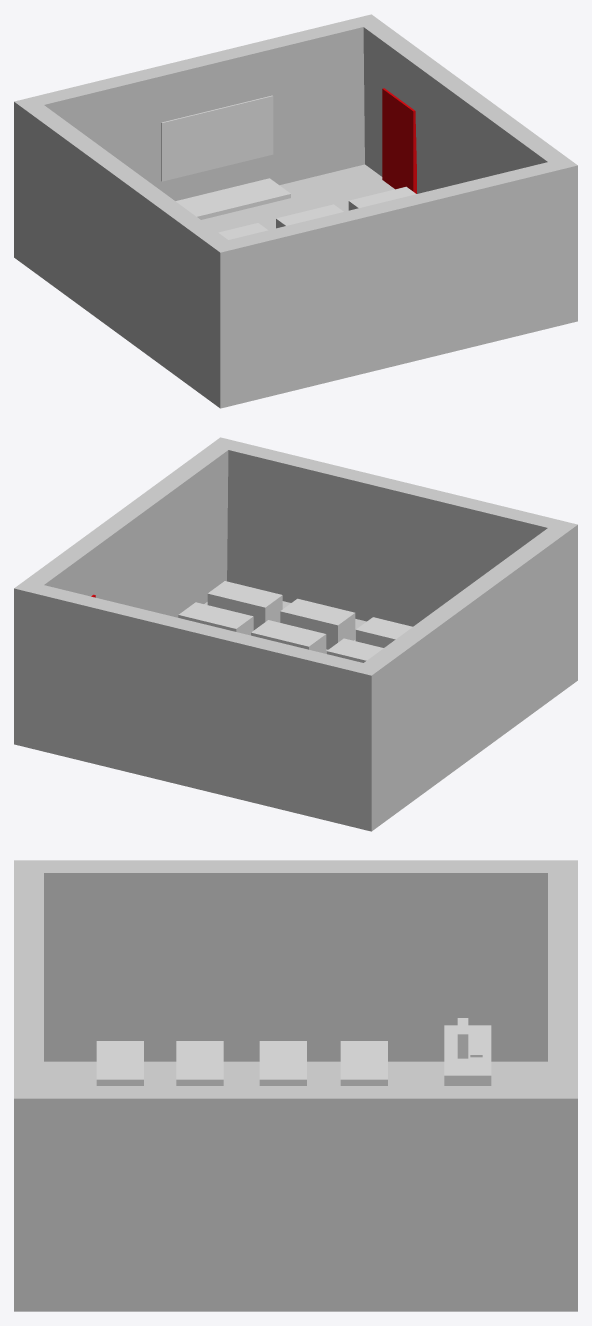
Rendered from SalaAula.fbx.
3 views of the same model, one above another, from view 1: azimuth 30°, elevation 25°; view 2: azimuth 150°, elevation 25°; view 3: azimuth 270°, elevation 25° (orthographic). The views are drawn at different scales.
Visible parts, largest first — view 1: Cube.285, Cube.290, Cube.307, Cube.286, Cube.294, Cube.293; view 2: Cube.285, Cube.305, Cube.306, Cube.301, Cube.302, Cube.304, Cube.300; view 3: Cube.285, Cube.287, Cube.291, Cube.295, Cube.299, Cube.303.
Part boxes in pixels (left/top/right/bottom): Cube.285: left=14, top=14, right=577, bottom=408; Cube.290: left=161, top=95, right=273, bottom=181; Cube.307: left=382, top=88, right=416, bottom=193; Cube.286: left=175, top=178, right=290, bottom=219; Cube.294: left=348, top=186, right=416, bottom=210; Cube.293: left=276, top=204, right=343, bottom=228; Cube.285: left=14, top=437, right=577, bottom=831; Cube.305: left=280, top=598, right=355, bottom=649; Cube.306: left=207, top=581, right=282, bottom=630; Cube.301: left=251, top=620, right=326, bottom=653; Cube.302: left=178, top=602, right=253, bottom=635; Cube.304: left=355, top=617, right=412, bottom=647; Cube.300: left=326, top=638, right=383, bottom=662; Cube.285: left=14, top=860, right=577, bottom=1311; Cube.287: left=444, top=1025, right=491, bottom=1085; Cube.291: left=340, top=1041, right=387, bottom=1085; Cube.295: left=259, top=1041, right=306, bottom=1085; Cube.299: left=176, top=1041, right=223, bottom=1085; Cube.303: left=96, top=1041, right=143, bottom=1085.
Bounding box in the file's own units: 2386 × 994 × 2386.
